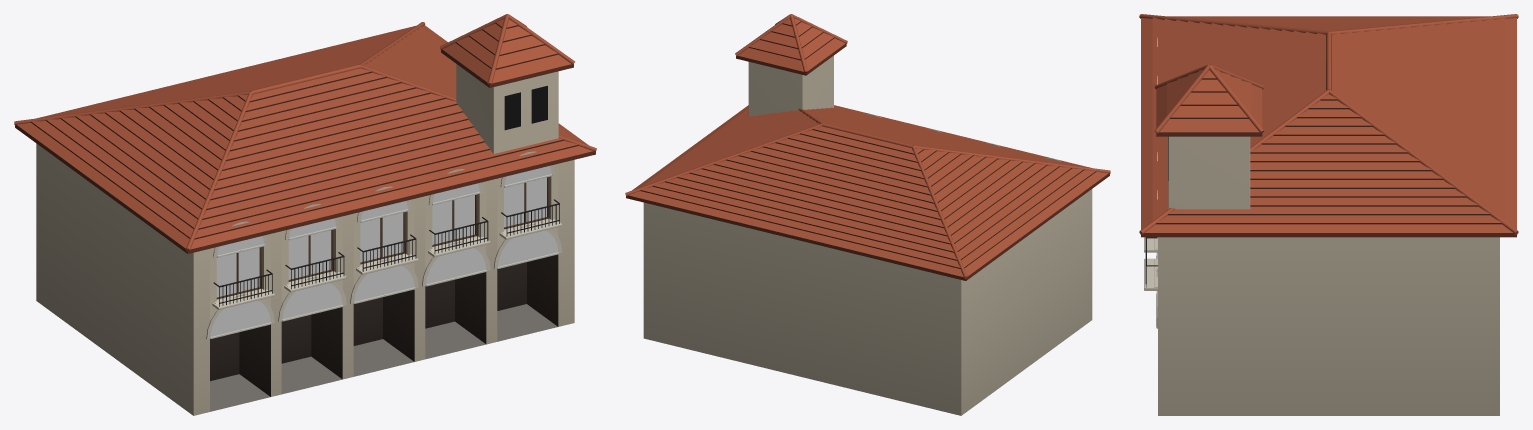
File: MedRevivalMIA.fbx
The picture shows the model from 3 angles, left to right: view 1: azimuth 30°, elevation 25°; view 2: azimuth 150°, elevation 25°; view 3: azimuth 270°, elevation 25°; orthographic projection. The views are drawn at different scales.
Parts seen in each view (by area): view 1: MedRevivalMIA; view 2: MedRevivalMIA; view 3: MedRevivalMIA.
Boxes of the visible parts, x1,y1,x2,y2 form: MedRevivalMIA: (14,14,596,415); MedRevivalMIA: (625,14,1110,415); MedRevivalMIA: (1139,14,1518,415).
Size of the model in its own units: 15.11 by 10.59 by 11.11.
